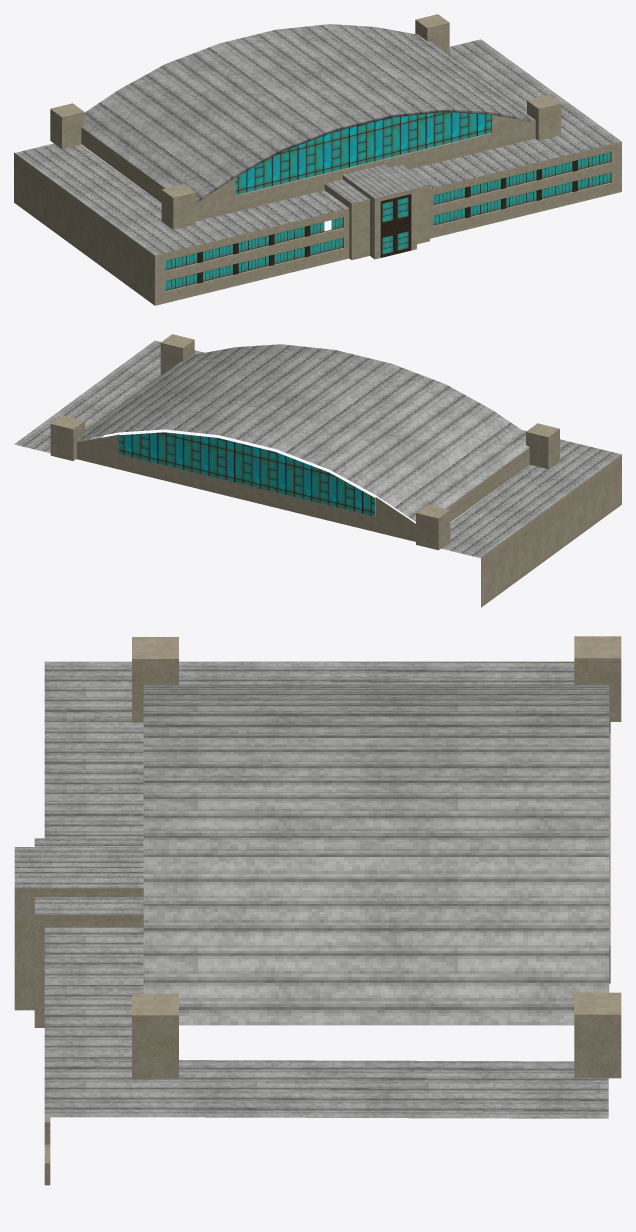
The model's file is AirportEx.fbx.
3 views of the same model, one above another, from view 1: azimuth 30°, elevation 25°; view 2: azimuth 150°, elevation 25°; view 3: azimuth 270°, elevation 25° (orthographic). The views are drawn at different scales.
Visible parts, largest first — view 1: AirportEx; view 2: AirportEx; view 3: AirportEx.
Part boxes in pixels (x1,y1,x2,y2): AirportEx: (14, 14, 621, 305); AirportEx: (14, 334, 621, 607); AirportEx: (14, 636, 621, 1185).
Bounding box in the file's own units: 2461 × 548 × 1384.
Materials: 4 (4 with a texture image).
